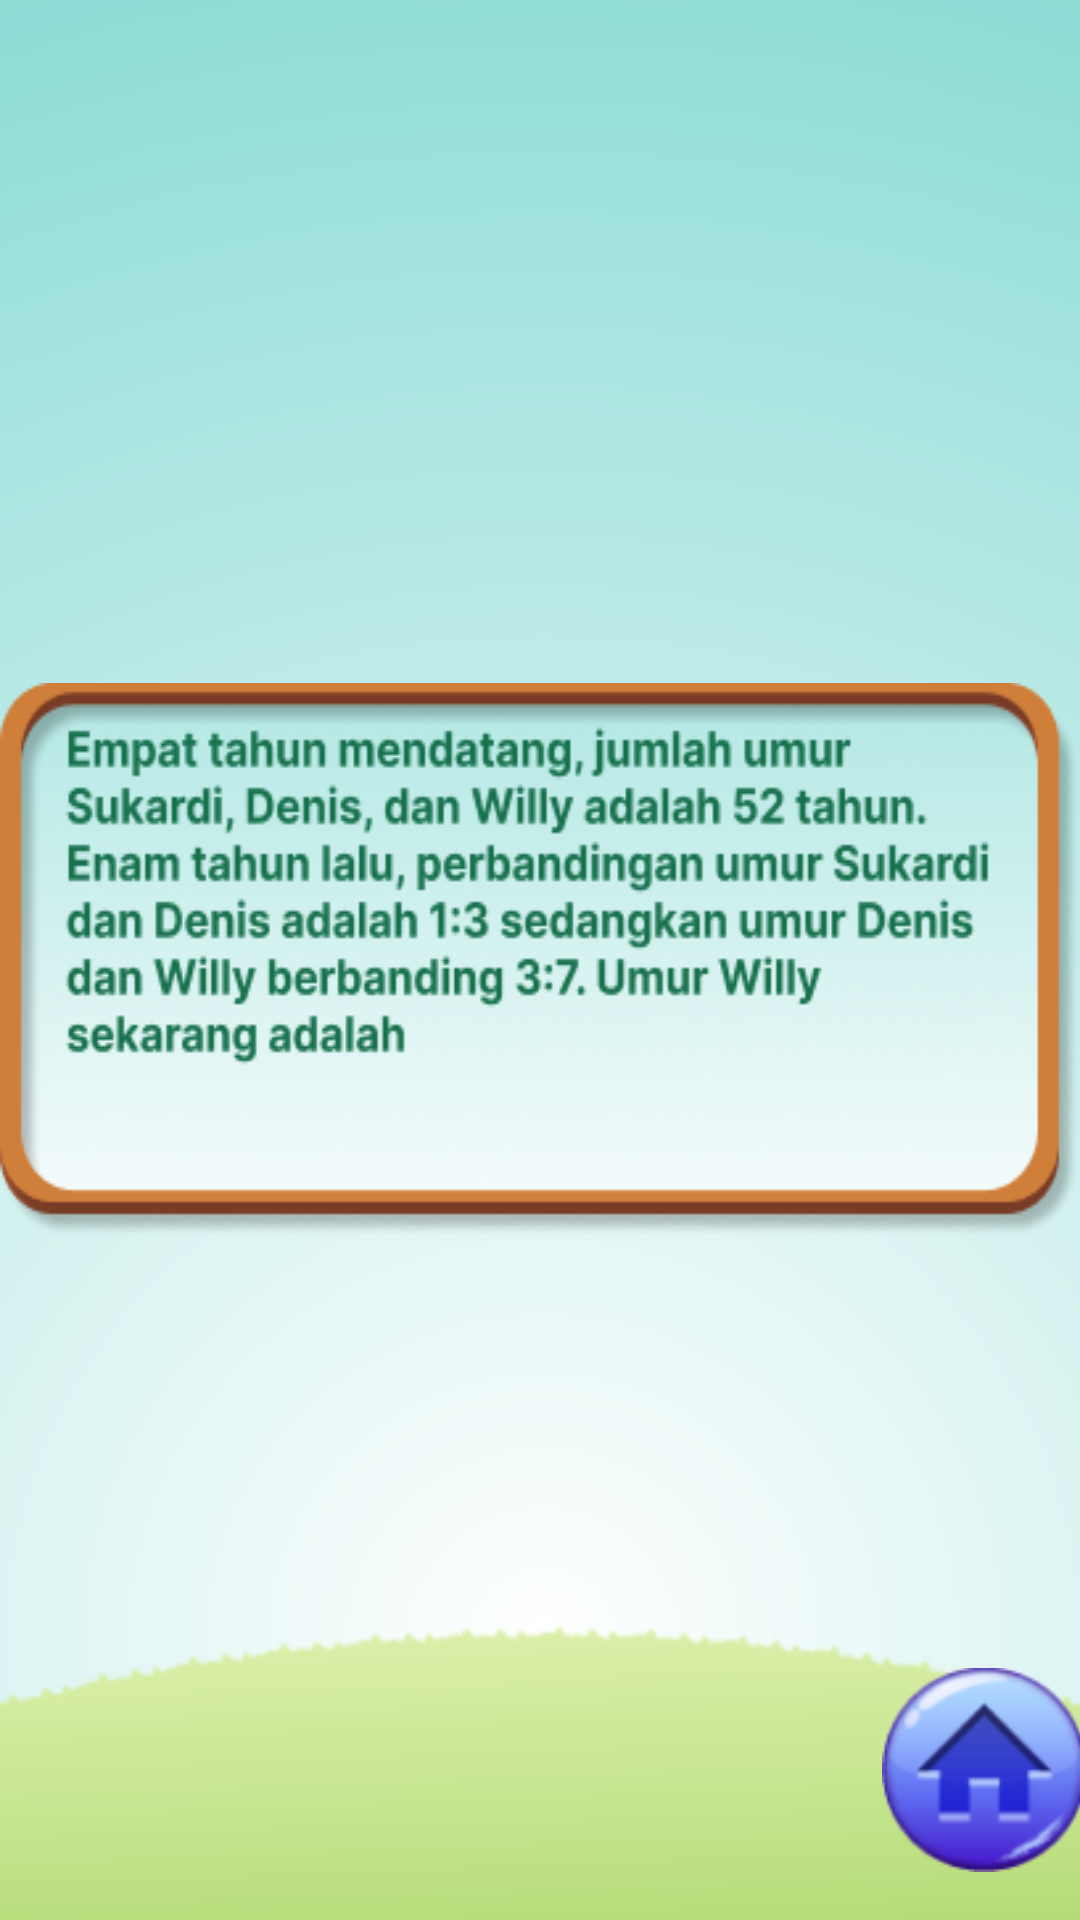

Screen size 1080×1920. Icon name, then its center in pixels as (x,y):
Home: (981,1770)
